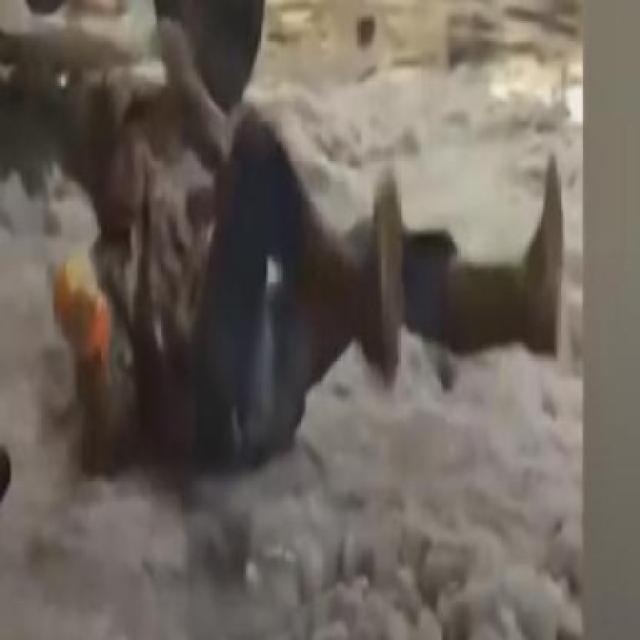fall: (52, 82, 563, 482)
